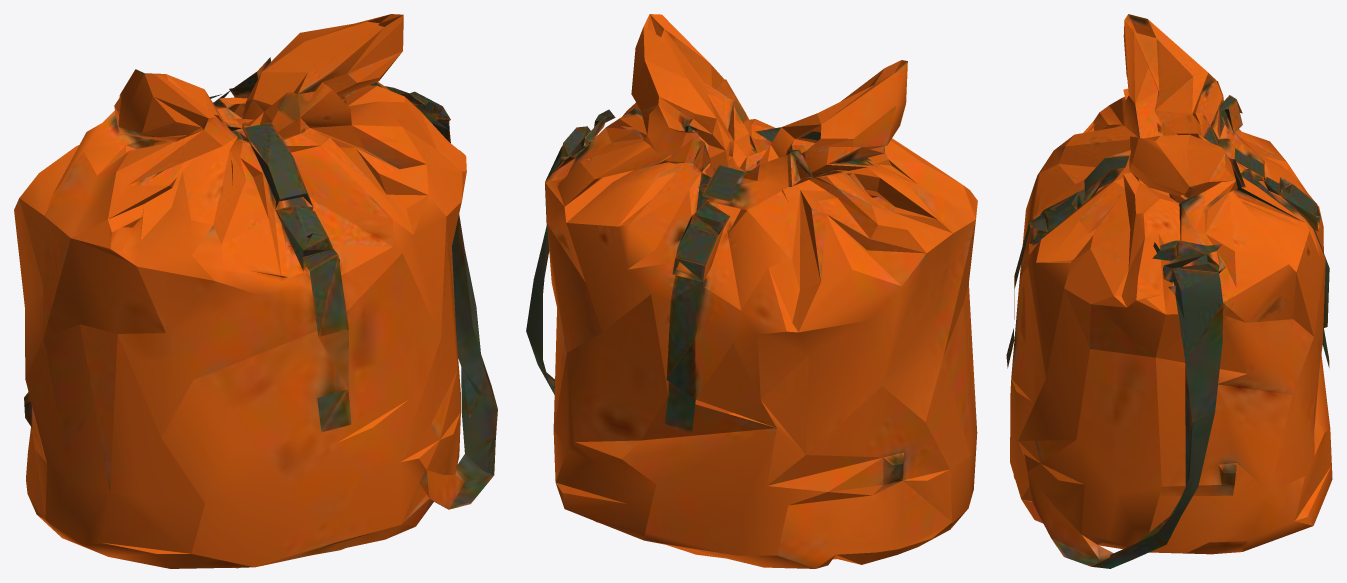
Rendered from colis_sac.glb.
3 renders of one model, left to right at view 1: azimuth 30°, elevation 25°; view 2: azimuth 150°, elevation 25°; view 3: azimuth 270°, elevation 25°, orthographic. The views are drawn at different scales.
Size of the model in its own units: 1.84 by 1.89 by 1.33.
Materials: 1 (1 with a texture image).
